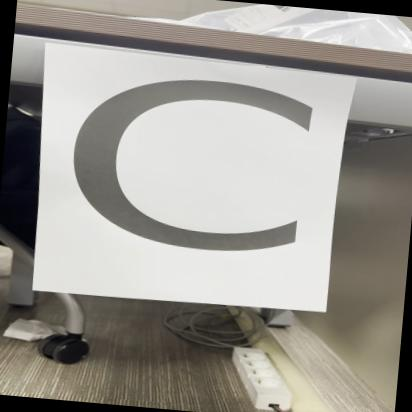seat: (31, 43, 350, 316)
